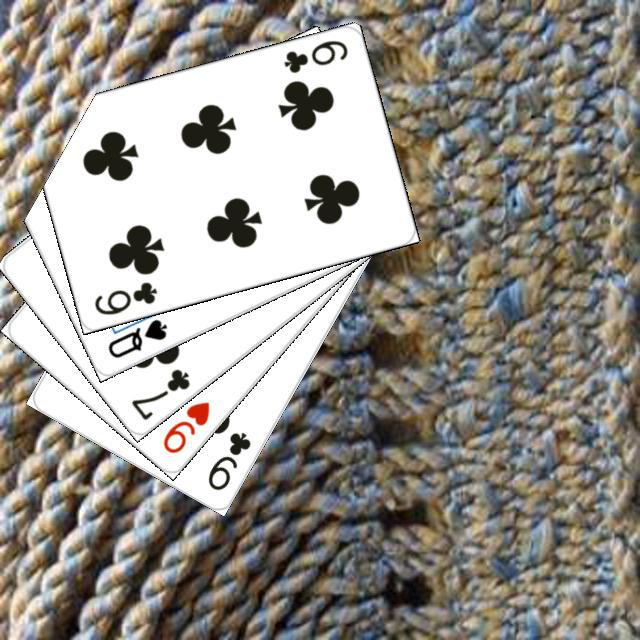6c: (278, 35, 350, 75), (89, 276, 159, 317)
7c: (126, 363, 192, 422)
9c: (202, 427, 253, 492)
9h: (158, 396, 212, 456)
Qs: (103, 314, 169, 360)
